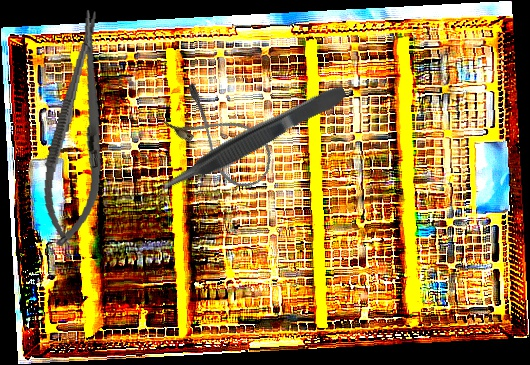Cannula: (158, 79, 284, 197)
Needle Holder: (35, 7, 122, 250)
Tissue Forceps: (154, 82, 352, 199)
